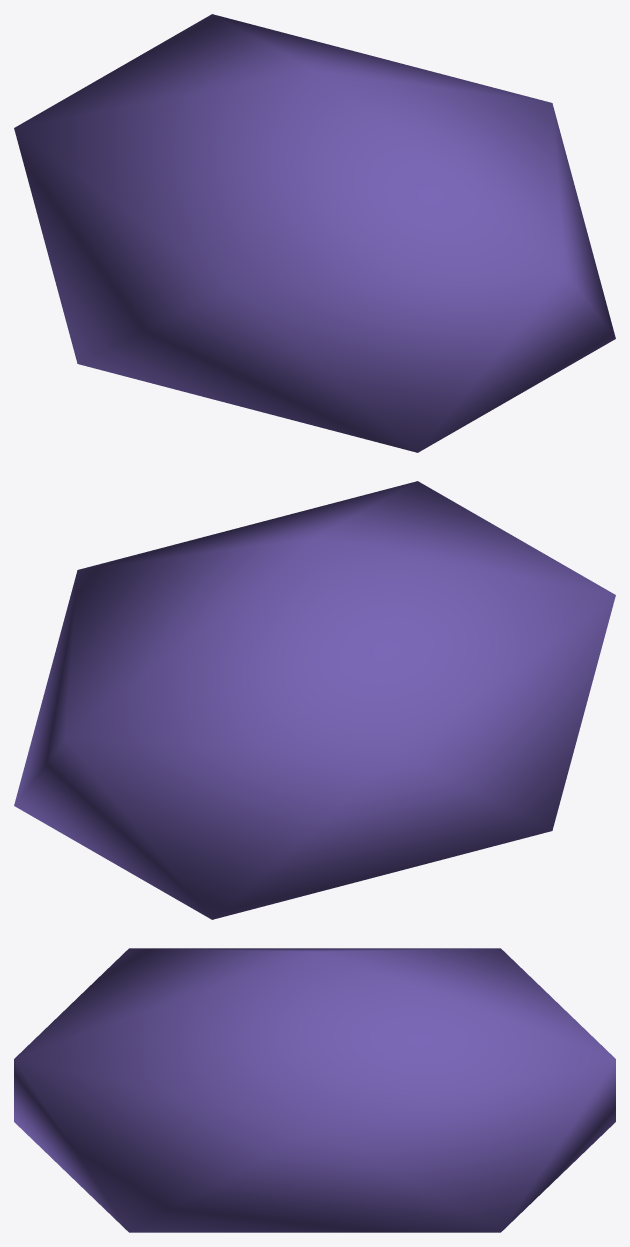
The model's file is bullet.glb.
The picture shows the model from 3 angles, top to bottom: view 1: azimuth 30°, elevation 25°; view 2: azimuth 150°, elevation 25°; view 3: azimuth 270°, elevation 25°; orthographic projection. The views are drawn at different scales.
Visible parts, largest first — view 1: bullet; view 2: bullet; view 3: bullet.
Part boxes in pixels (<box>): bullet: <box>14,14,615,452</box>; bullet: <box>14,481,615,919</box>; bullet: <box>14,948,615,1232</box>.
Size of the model in its own units: 0.826 by 0.5393 by 1.06.
1 material, 1 textured.
